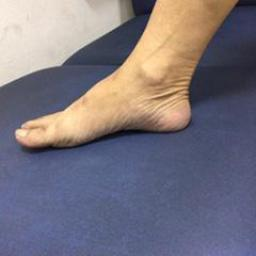Medial View -Right Foot-: (10, 39, 207, 156)
